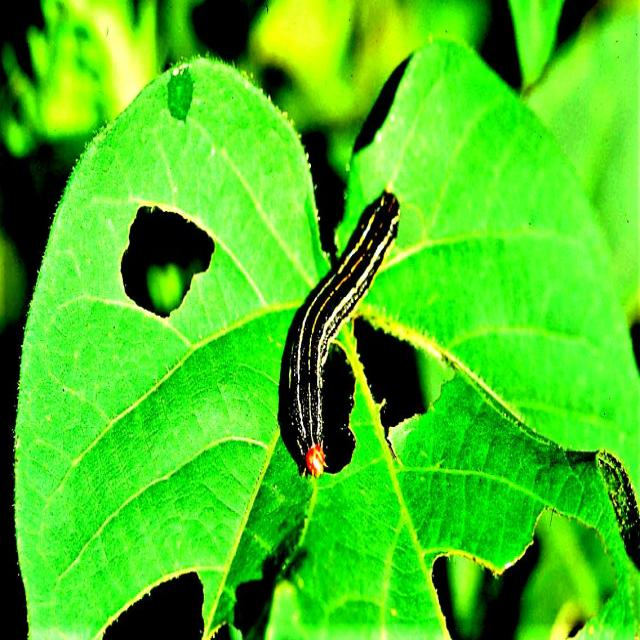armyworm: (276, 186, 401, 478)
